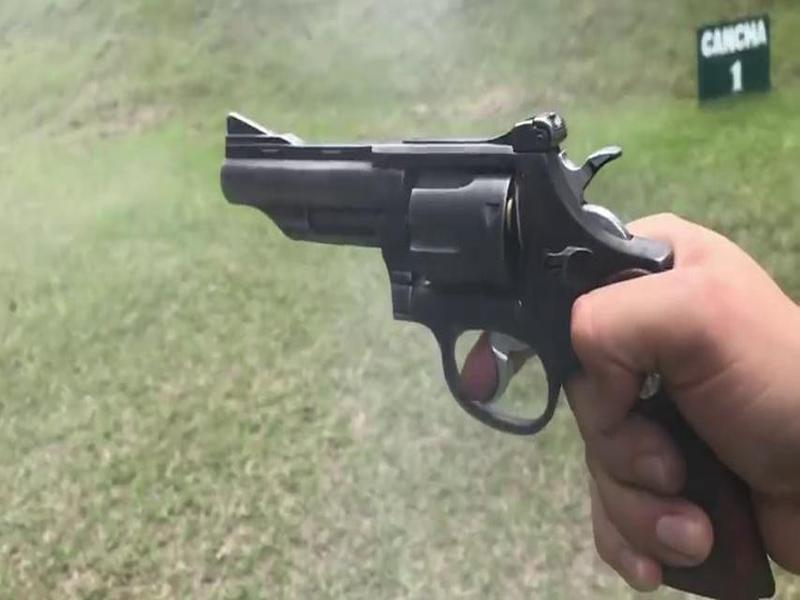Revolver: (205, 79, 717, 470)
